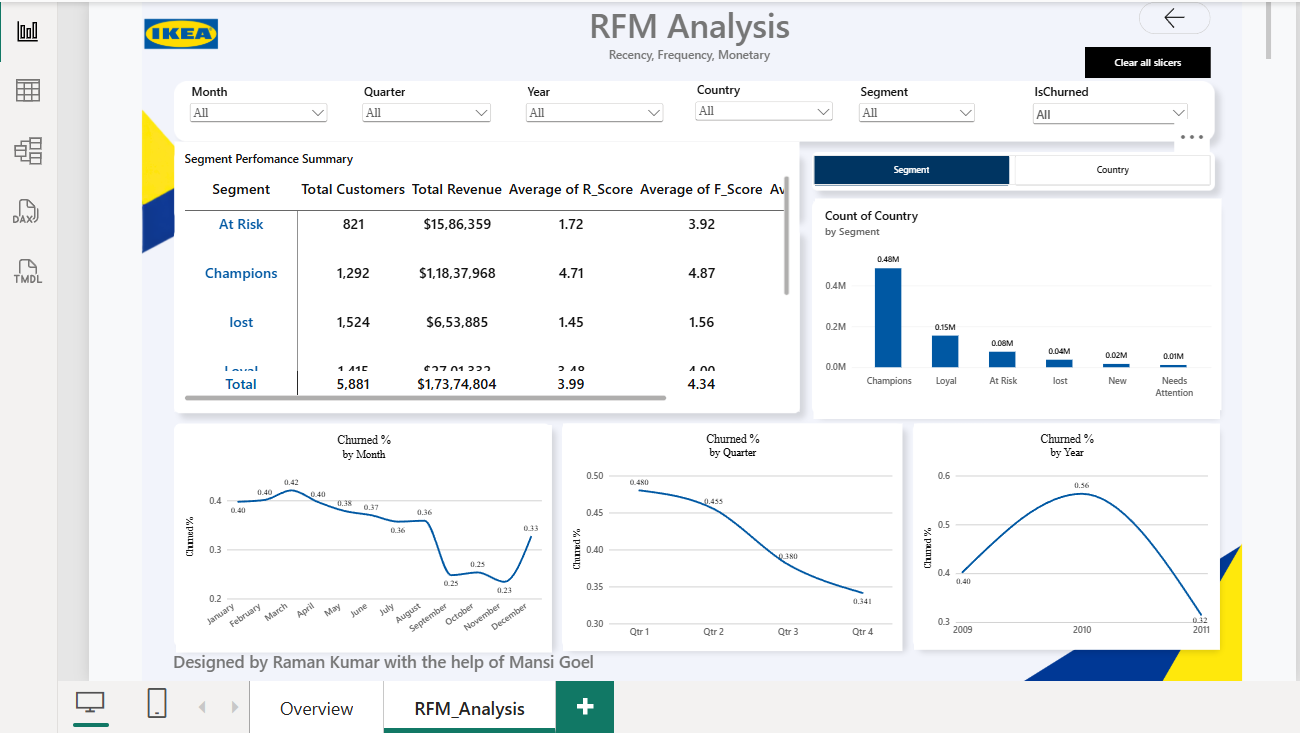

What the dashboard file says about the page in this screenshot:
{"tool":"powerbi","page":{"name":"RFM_Analysis","canvas":[1920,1080],"ordinal":1},"visuals":[{"type":"slicer","fields":{"Values":["Sheet1.Segment"]},"box":[1218.8,128.6,195.3,91.5],"z":0},{"type":"lineChart","fields":{"Category":["Sheet1.InvoiceDate.Variation.Date Hierarchy.Month"],"Y":["Sheet1.Churned %"]},"box":[137.8,673.3,597.8,362.2],"z":0,"group":"g1"},{"type":"slicer","fields":{"Values":["Sheet1.Country"]},"box":[959.2,126.1,229,90.7],"z":1000},{"type":"lineChart","fields":{"Category":["Sheet1.InvoiceDate.Variation.Date Hierarchy.Quarter"],"Y":["Sheet1.Churned %"]},"box":[753.4,671.1,540,362.2],"z":1000,"group":"g1"},{"type":"slicer","fields":{"Values":["Sheet1.InvoiceDate.Variation.Date Hierarchy.Year"]},"box":[689.7,128.6,229,90.7],"z":2000},{"type":"lineChart","fields":{"Category":["Sheet1.InvoiceDate.Variation.Date Hierarchy.Year"],"Y":["Sheet1.Churned %"]},"box":[1311.1,671.1,486.7,360],"z":2000,"group":"g1"},{"type":"slicer","fields":{"Values":["Sheet1.InvoiceDate.Variation.Date Hierarchy.Quarter"]},"box":[430.2,128.6,214.7,90.7],"z":3000},{"type":"slicer","fields":{"Values":["Sheet1.InvoiceDate.Variation.Date Hierarchy.Month"]},"box":[155.1,128.8,229,90.7],"z":4000},{"type":"group","id":"g1","title":"Customers","box":[137.8,671.1,1660,364.4],"z":5000},{"type":"slicer","fields":{"Values":["Sheet1.IsChurned"]},"box":[1495.6,128.6,257.1,93.9],"z":7000},{"type":"textbox","box":[39.1,0,1841.7,101.4],"z":8000},{"type":"image","box":[39.6,0,212.6,101.4],"z":9000},{"type":"textbox","box":[126.1,1030.9,719.4,49.4],"z":10000},{"type":"actionButton","box":[1671.2,0,113.7,51],"z":11000},{"type":"actionButton","box":[1584.6,71.7,200.2,49.4],"z":12000},{"type":"bookmarkNavigator","box":[1152,242.3,632.9,49.4],"z":13000},{"type":"pivotTable","title":"Country Perfomance Summary","fields":{"Rows":["Sheet1.Country"],"Values":["Sheet1.Total Customers","Sheet1.Total Revenue","Avg(Sheet1.R_Score)","Avg(Sheet1.F_Score)","Avg(Sheet1.M_Score)"]},"box":[136,222.5,994.3,428.6],"z":15000},{"type":"columnChart","fields":{"Category":["Sheet1.Segment"],"Y":["Sheet1.Avg Customer Value"]},"box":[1152.4,317.3,646.6,346],"z":16000},{"type":"columnChart","fields":{"Category":["Sheet1.Country"],"Y":["Sheet1.Avg Customer Value"]},"box":[1153.8,319.7,646.6,336.4],"z":17001}]}

Visuals, with their boxes on the page's 1920x1080 design canvas (x1, y1, x2, y2). These are canvas units, not pixel positions in the 1300x733 screenshot, which may show the page scaled, cropped or inside an application window:
slicer - Sheet1.Segment: bbox=(1219, 129, 1414, 220)
lineChart - Sheet1.InvoiceDate.Variation.Date Hierarchy.Month x Sheet1.Churned %: bbox=(138, 673, 736, 1036)
slicer - Sheet1.Country: bbox=(959, 126, 1188, 217)
lineChart - Sheet1.InvoiceDate.Variation.Date Hierarchy.Quarter x Sheet1.Churned %: bbox=(753, 671, 1293, 1033)
slicer - Sheet1.InvoiceDate.Variation.Date Hierarchy.Year: bbox=(690, 129, 919, 219)
lineChart - Sheet1.InvoiceDate.Variation.Date Hierarchy.Year x Sheet1.Churned %: bbox=(1311, 671, 1798, 1031)
slicer - Sheet1.InvoiceDate.Variation.Date Hierarchy.Quarter: bbox=(430, 129, 645, 219)
slicer - Sheet1.InvoiceDate.Variation.Date Hierarchy.Month: bbox=(155, 129, 384, 220)
"Customers" group: bbox=(138, 671, 1798, 1036)
slicer - Sheet1.IsChurned: bbox=(1496, 129, 1753, 222)
textbox: bbox=(39, 0, 1881, 101)
image: bbox=(40, 0, 252, 101)
textbox: bbox=(126, 1031, 846, 1080)
actionButton: bbox=(1671, 0, 1785, 51)
actionButton: bbox=(1585, 72, 1785, 121)
bookmarkNavigator: bbox=(1152, 242, 1785, 292)
"Country Perfomance Summary" pivotTable: bbox=(136, 222, 1130, 651)
columnChart - Sheet1.Segment x Sheet1.Avg Customer Value: bbox=(1152, 317, 1799, 663)
columnChart - Sheet1.Country x Sheet1.Avg Customer Value: bbox=(1154, 320, 1800, 656)
